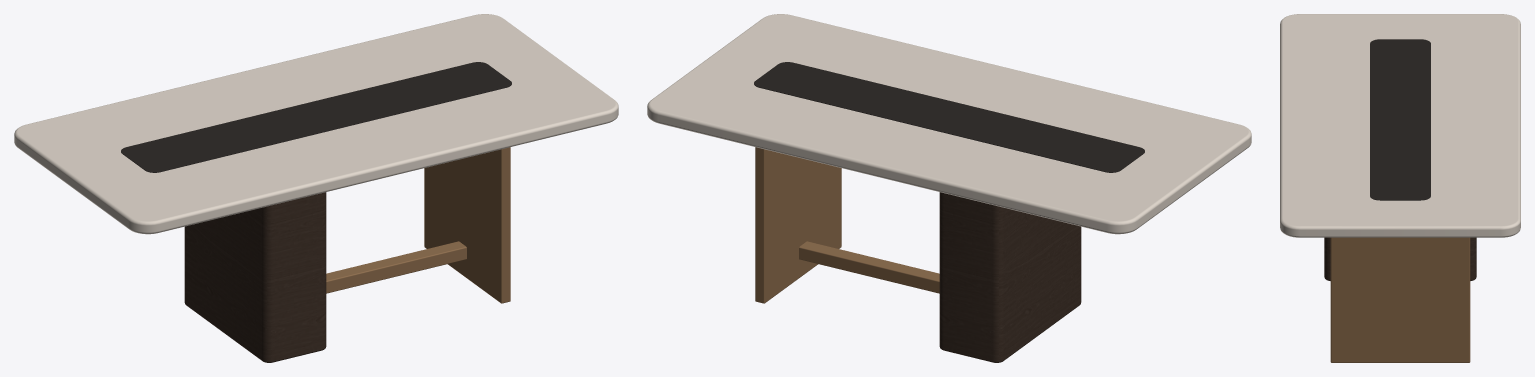
Rendered from tokyo-dining-set--dtable6.glb.
3 renders of one model, left to right at view 1: azimuth 30°, elevation 25°; view 2: azimuth 150°, elevation 25°; view 3: azimuth 270°, elevation 25°, orthographic. The views are drawn at different scales.
Parts seen in each view (by area): view 1: top, pedestal, inlay, plate, bar; view 2: top, pedestal, inlay, plate, bar; view 3: top, plate, inlay, pedestal.
Boxes of the visible parts, <box> form: top: <box>14,14,618,234</box>; pedestal: <box>184,192,326,362</box>; inlay: <box>121,62,511,172</box>; plate: <box>424,147,510,303</box>; bar: <box>326,241,466,293</box>; top: <box>647,14,1251,234</box>; pedestal: <box>939,192,1081,362</box>; inlay: <box>754,62,1144,172</box>; plate: <box>755,147,841,303</box>; bar: <box>799,241,939,293</box>; top: <box>1280,14,1520,237</box>; plate: <box>1330,237,1470,362</box>; inlay: <box>1370,39,1430,200</box>; pedestal: <box>1324,237,1476,280</box>.
Size of the model in its own units: 2 by 0.762 by 0.95.
4 materials, 1 textured.
